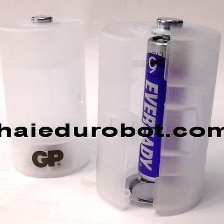battery: (136, 28, 197, 187)
